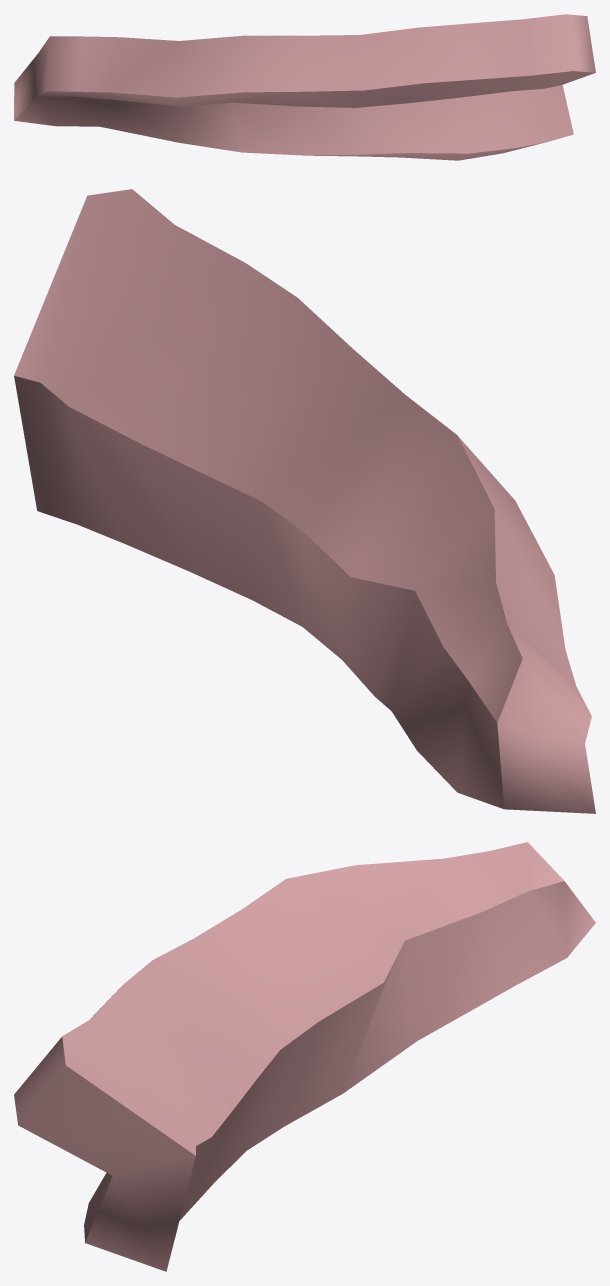
3 views of the same model, one above another, from view 1: azimuth 30°, elevation 25°; view 2: azimuth 150°, elevation 25°; view 3: azimuth 270°, elevation 25° (orthographic). The views are drawn at different scales.
Parts seen in each view (by area): view 1: ZA_6671d7c1bb4700a0; view 2: ZA_6671d7c1bb4700a0; view 3: ZA_6671d7c1bb4700a0.
Boxes of the visible parts, x1=… form: ZA_6671d7c1bb4700a0: x1=14, y1=14, x2=595, y2=160; ZA_6671d7c1bb4700a0: x1=14, y1=189, x2=595, y2=813; ZA_6671d7c1bb4700a0: x1=14, y1=842, x2=595, y2=1271.
Bounding box in the file's own units: 0.0251 × 0.00899 × 0.02.
